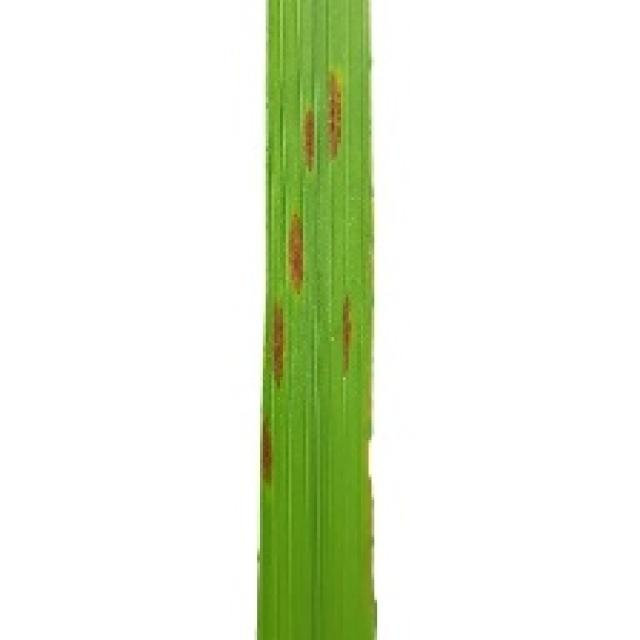Unhealthy: (328, 73, 341, 159), (289, 213, 302, 293), (260, 405, 272, 486), (273, 298, 283, 391), (343, 295, 352, 380), (304, 108, 315, 172)
